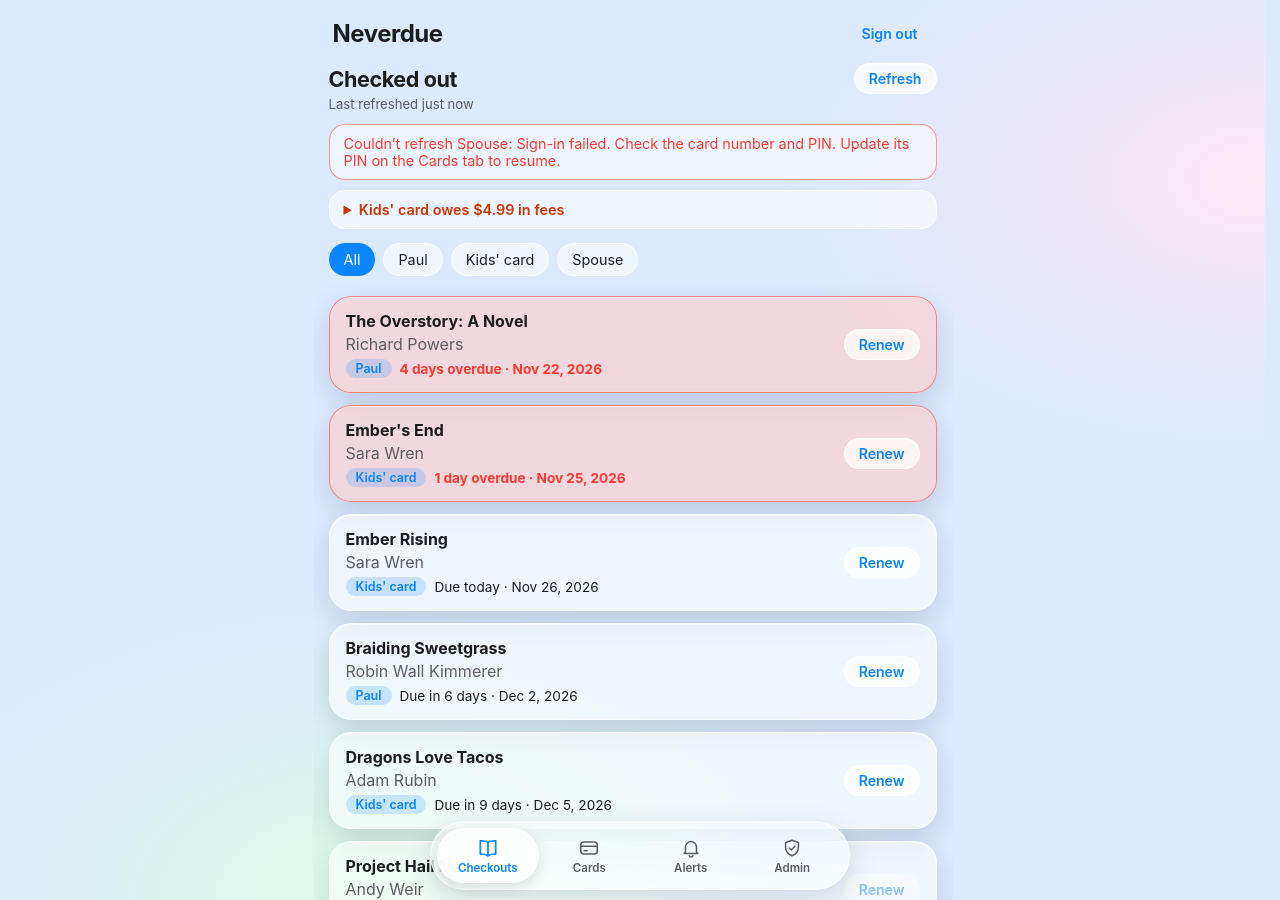
Test case: App › caches the admin user list but refreshes it after a change
The image size is (1280, 900).
Click the link "Admin" at [792, 856], box [774,837,810,875]
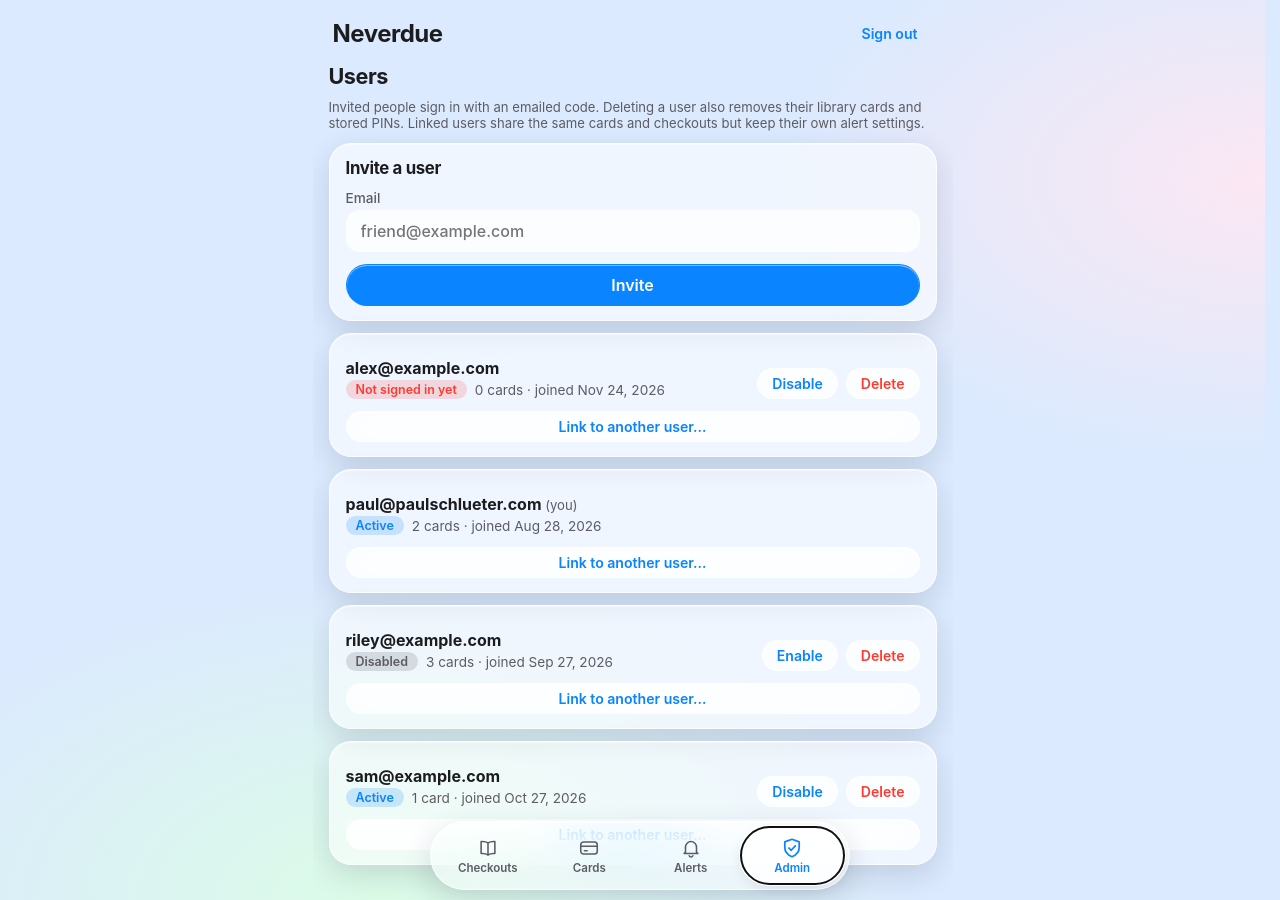
Click the link "Checkouts" at [488, 856], box [458,837,518,875]
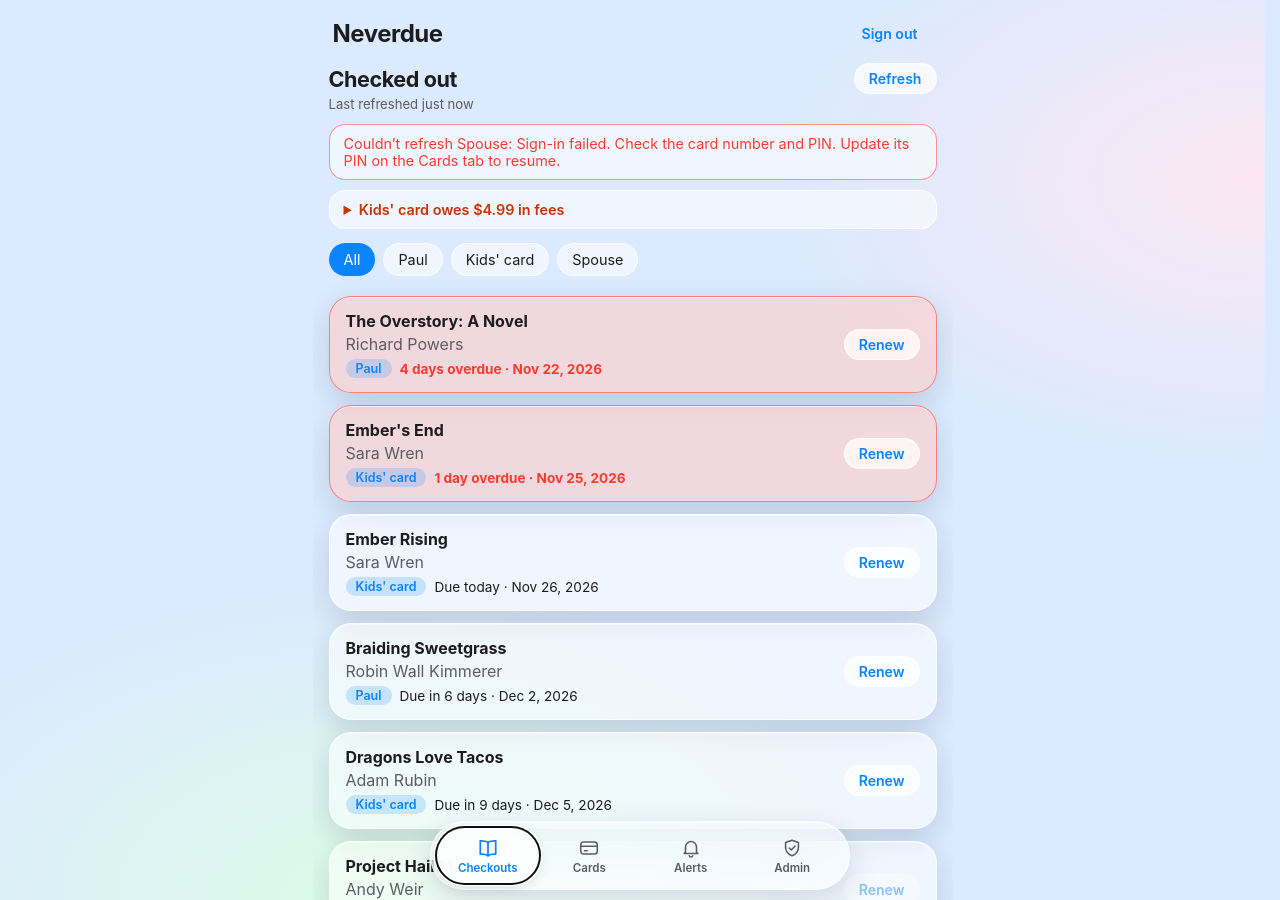
Result: the text "The Overstory: A Novel" is shown at [346,311,528,331]
Click the link "Admin" at [792, 856], box [774,837,810,875]
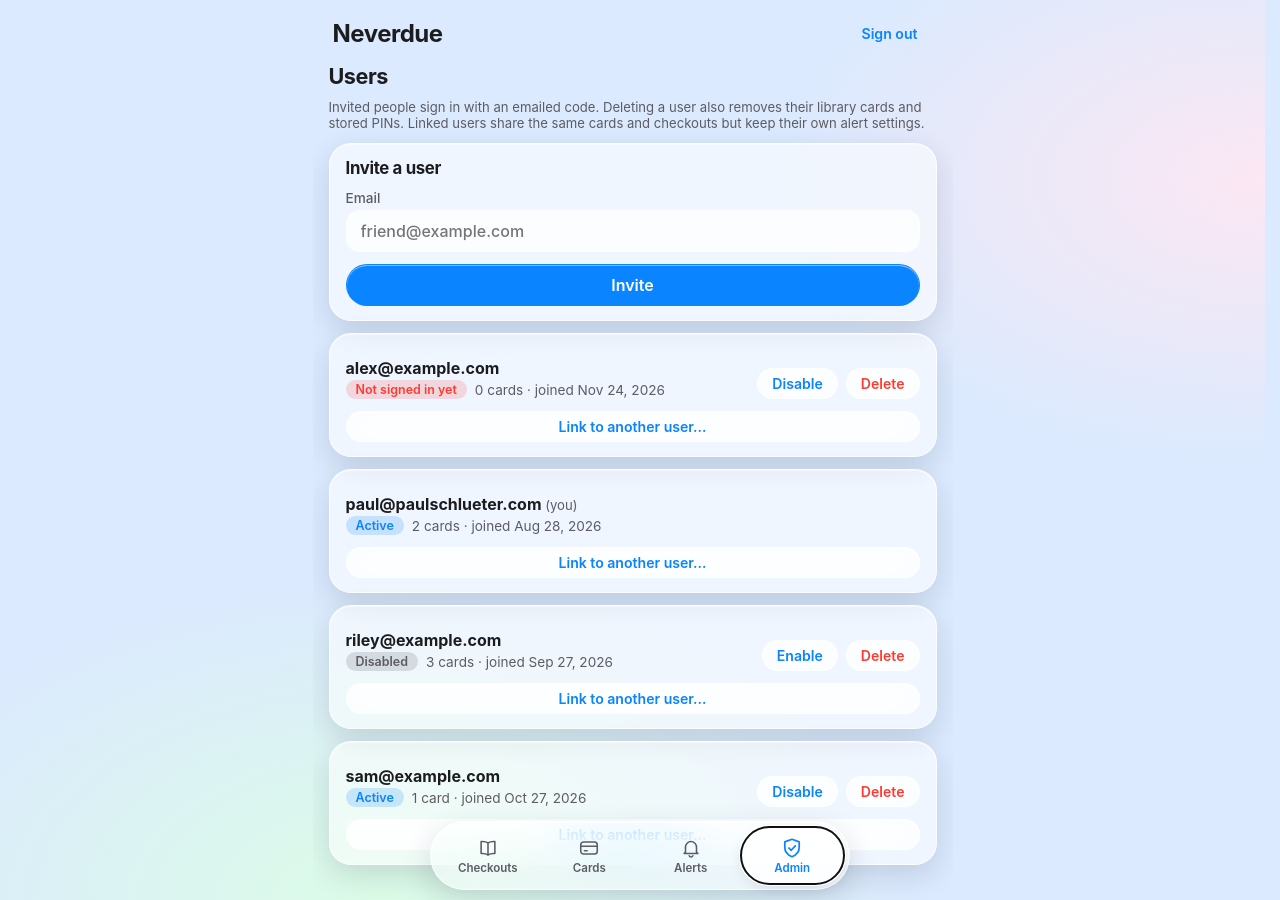
Click the button "Disable" in the row of "· joined Oct 27, 2026" at [798, 792], box [757,776,838,807]
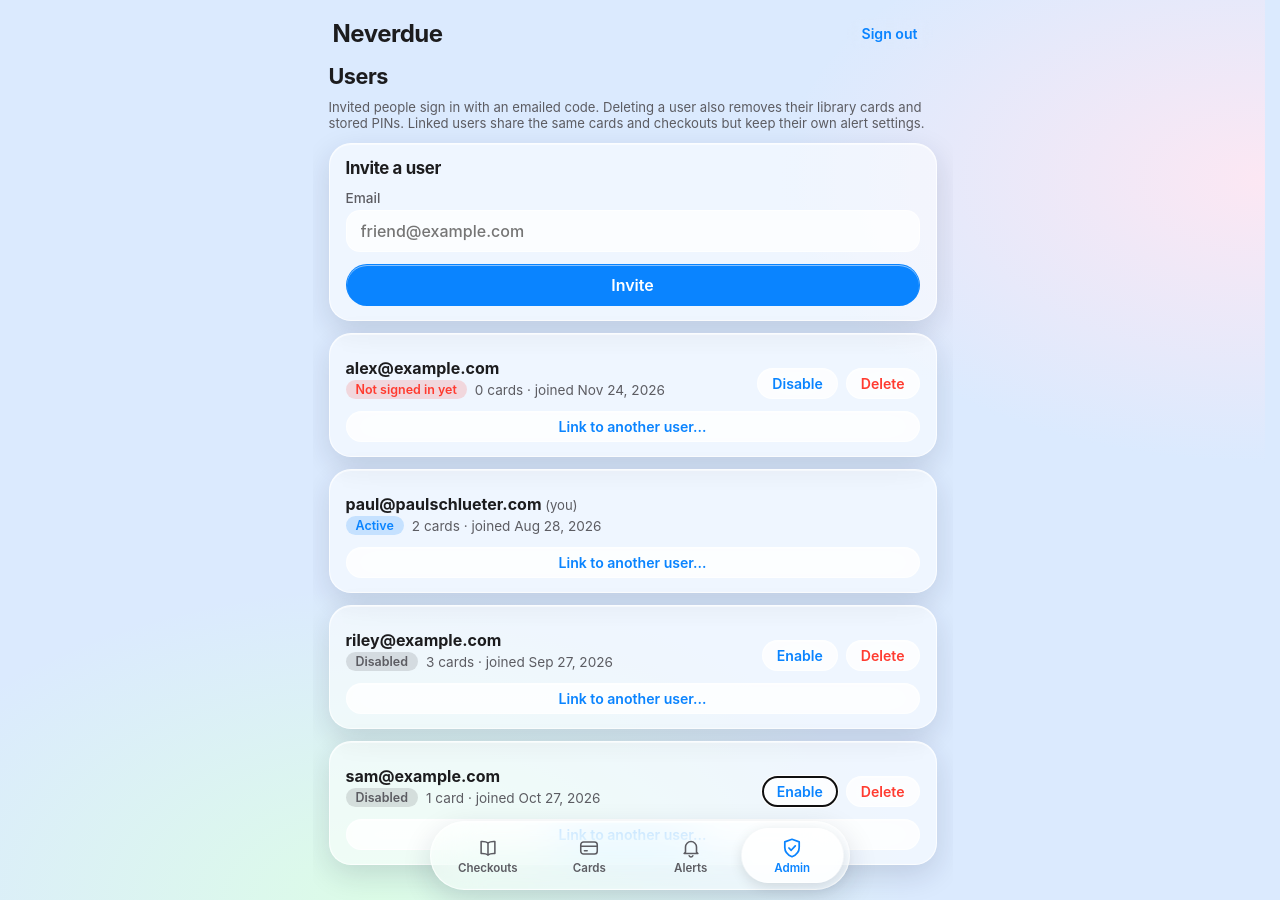
Result: the text "Disabled" in the row of "· joined Oct 27, 2026" is shown at [356,790,408,805]
